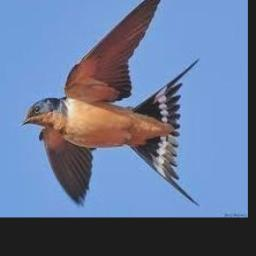Swallow: (17, 0, 199, 206)
